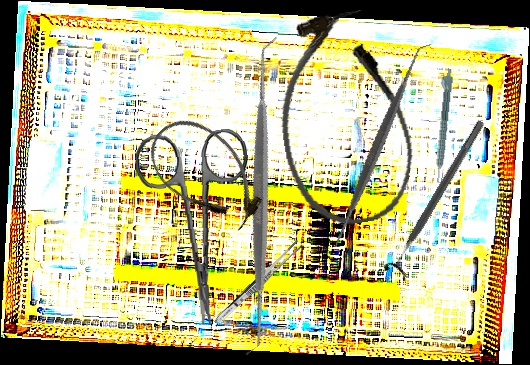Cannula: (265, 5, 423, 233), (135, 103, 278, 244)
Dressing Forceps: (211, 238, 304, 328)
Fixation Ring: (381, 115, 494, 282)
Handpiece: (429, 67, 454, 184)
Iris Scissors: (132, 127, 260, 330)
Spatula Surgical: (102, 36, 421, 356), (275, 43, 481, 251)
